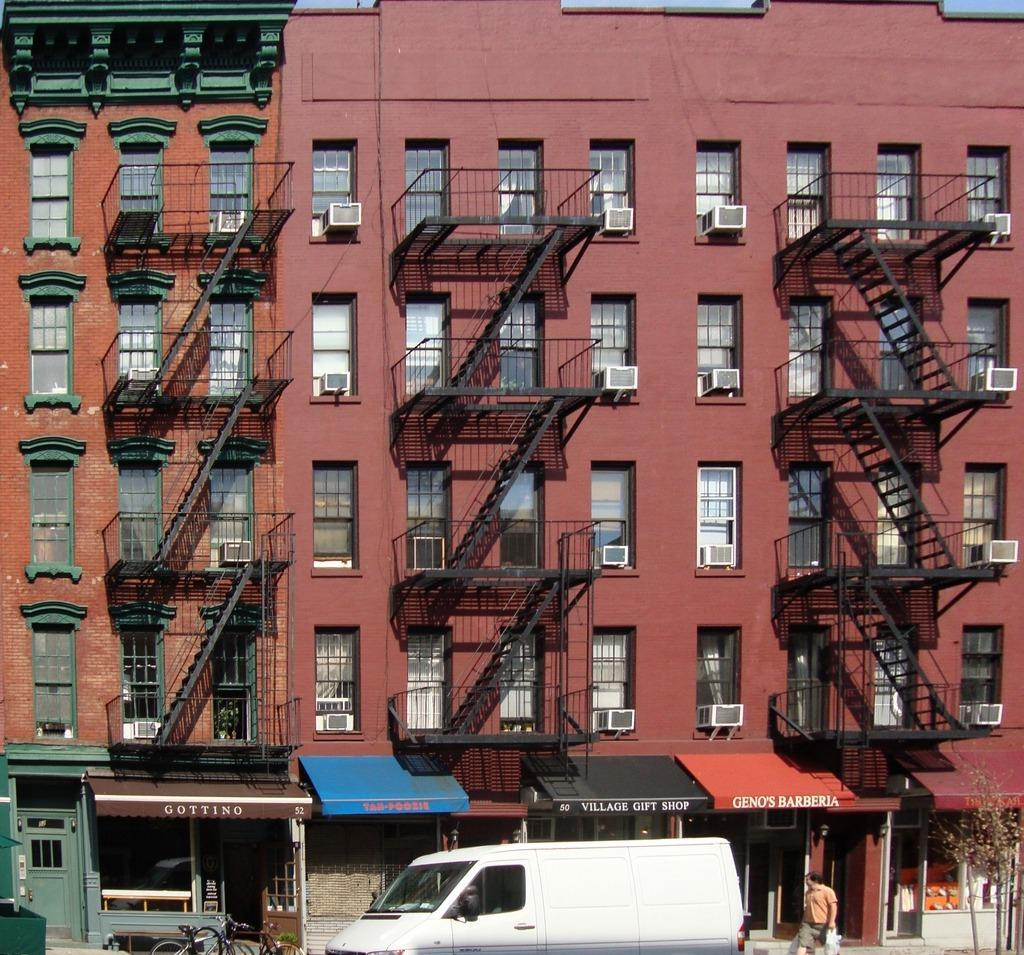window: (100, 815, 193, 912), (961, 464, 1008, 572), (500, 463, 547, 570), (696, 464, 743, 571), (788, 462, 834, 570), (589, 463, 635, 570), (876, 464, 922, 571), (407, 464, 452, 572), (699, 294, 744, 398), (592, 294, 637, 398), (499, 293, 544, 397), (407, 294, 452, 398), (313, 292, 358, 396), (403, 140, 451, 237), (312, 464, 357, 567), (699, 626, 743, 731), (593, 626, 637, 731), (409, 632, 453, 737), (696, 141, 743, 239), (502, 628, 545, 733), (316, 627, 359, 732), (496, 139, 543, 235), (590, 140, 636, 238), (879, 143, 925, 241), (962, 299, 1008, 397), (878, 299, 924, 397), (788, 297, 834, 395), (212, 627, 252, 739), (787, 141, 833, 238), (967, 147, 1013, 244), (313, 140, 360, 232), (36, 626, 73, 740), (122, 628, 159, 741), (788, 626, 828, 730), (961, 625, 1000, 729), (875, 626, 914, 730), (33, 463, 70, 565), (210, 464, 247, 566), (123, 462, 159, 564), (123, 145, 161, 237), (209, 143, 247, 235), (33, 145, 69, 240), (212, 300, 246, 398), (33, 297, 67, 394), (123, 296, 157, 393)
